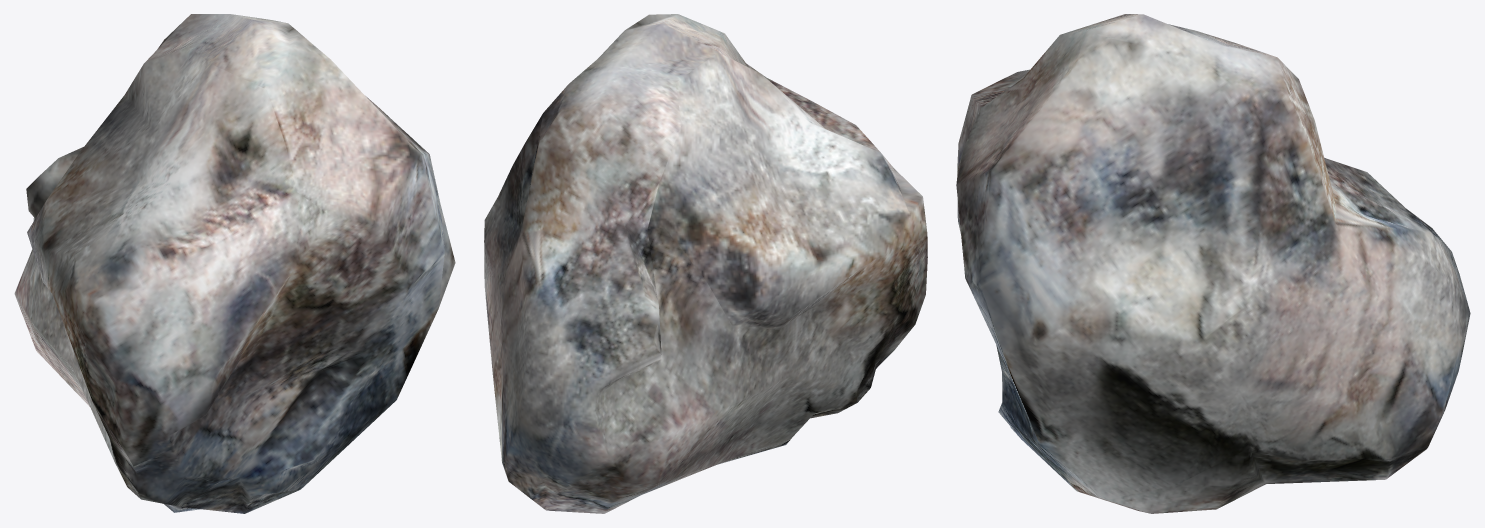
File: rock2.FBX
3 views of the same model, side by side, from view 1: azimuth 30°, elevation 25°; view 2: azimuth 150°, elevation 25°; view 3: azimuth 270°, elevation 25° (orthographic). The views are drawn at different scales.
Visible parts, largest first — view 1: Skin_Recovered_Tool; view 2: Skin_Recovered_Tool; view 3: Skin_Recovered_Tool.
Boxes of the visible parts, left/top/right/bottom form: Skin_Recovered_Tool: left=14, top=14, right=455, bottom=513; Skin_Recovered_Tool: left=484, top=14, right=927, bottom=513; Skin_Recovered_Tool: left=956, top=14, right=1470, bottom=513.
Bounding box in the file's own units: 2.74 × 3.2 × 3.02.
